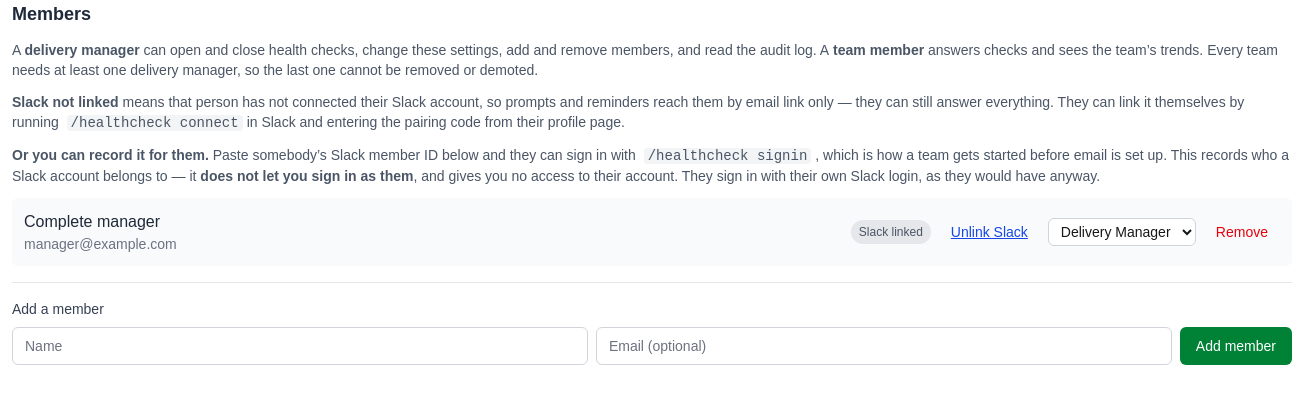
Test: MembersSection add errors › renders structured add-member validation errors
This screenshot has width=1304, height=404.
Type "New member" into the field named "Member name".
click(300, 346); type("New member")  # box [12,327,588,365]
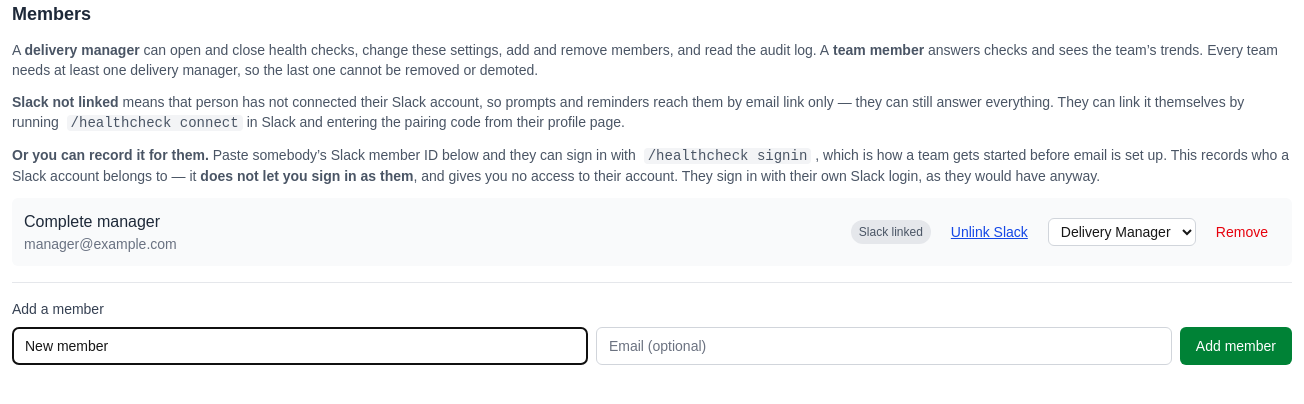
Type "invalid" into the field named "Member email".
click(884, 346); type("invalid")  # box [596,327,1172,365]
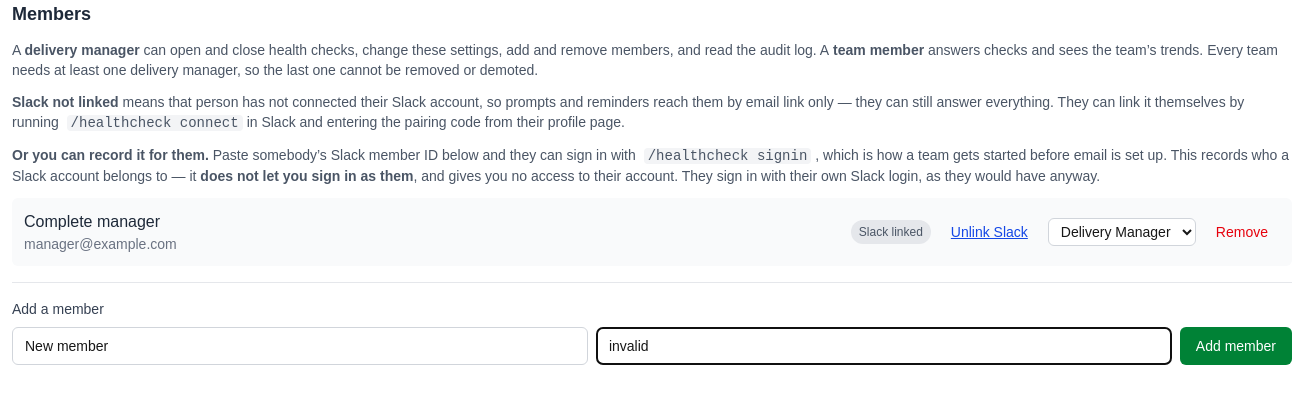
Click the button "Add member".
click(1236, 346)  # box [1180,327,1292,365]
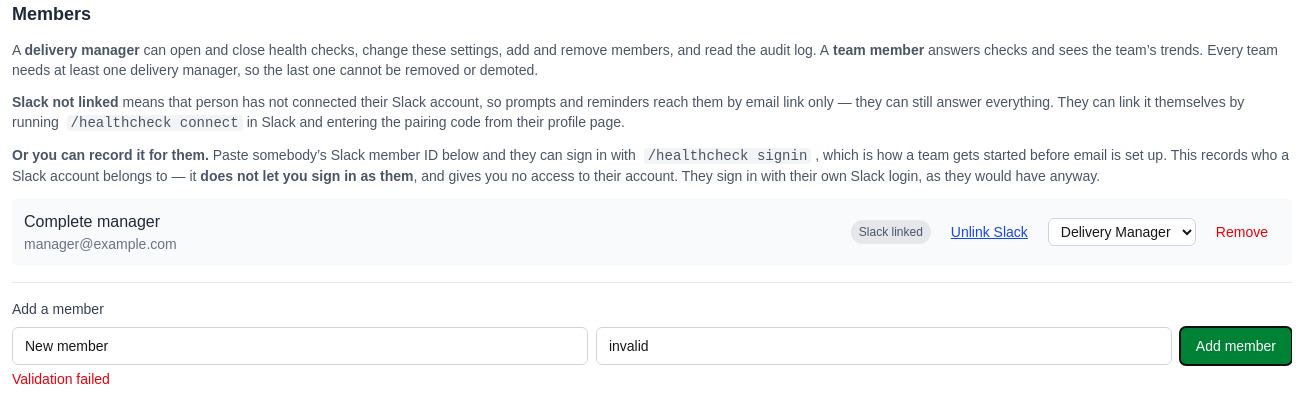
Expected: the message reads "Validation failed", [12,371,110,387]
